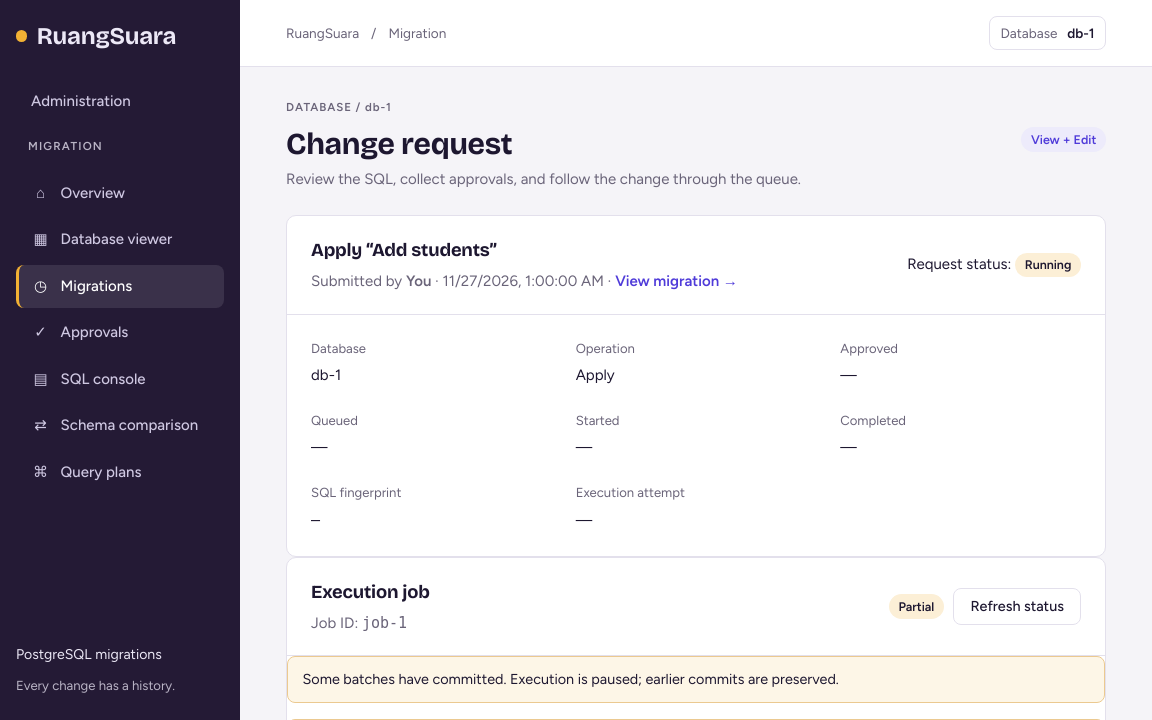
Test case: Execution job navigation and monitoring › refreshes verified progress on demand
The width and height of the screenshot is (1152, 720).
Expected: the heading "Execution job" is shown, [311,578,430,606]
Click the button "Refresh status" at (1017, 606), box [953,588,1081,625]
(page scrolled)
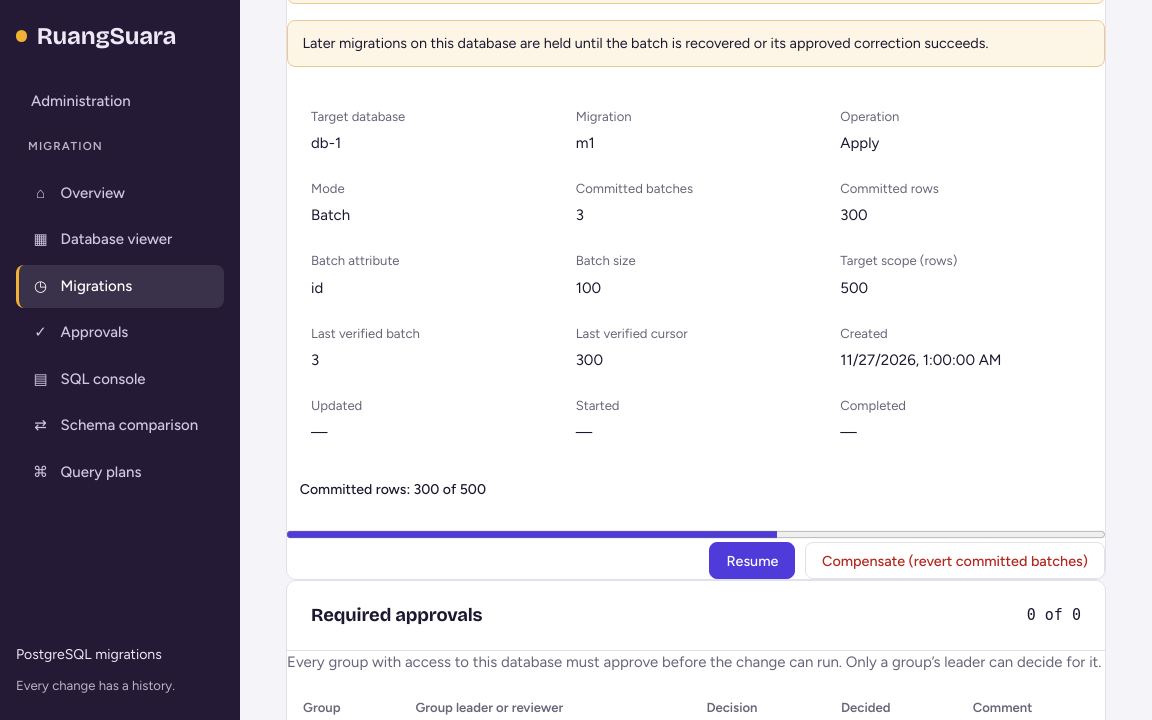
Expected: the 1st text "3" is shown, [576,206,584,224]
Expected: the text "300" below "Last verified cursor" is shown, [576,351,603,369]
